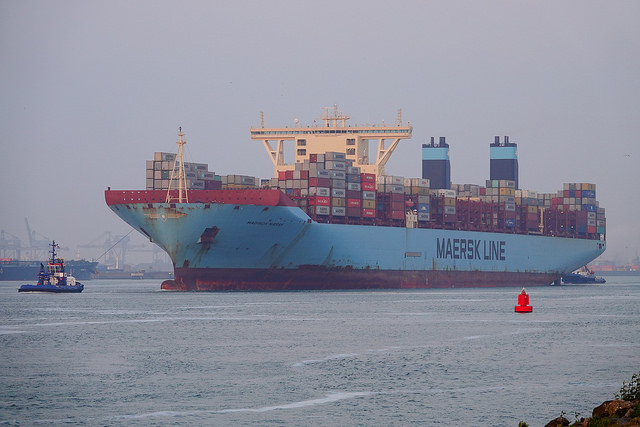container_ship: (103, 104, 606, 285)
tug_boat: (19, 234, 88, 297), (561, 266, 612, 285)
